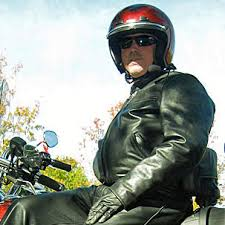com_capacete: (105, 2, 179, 83)
